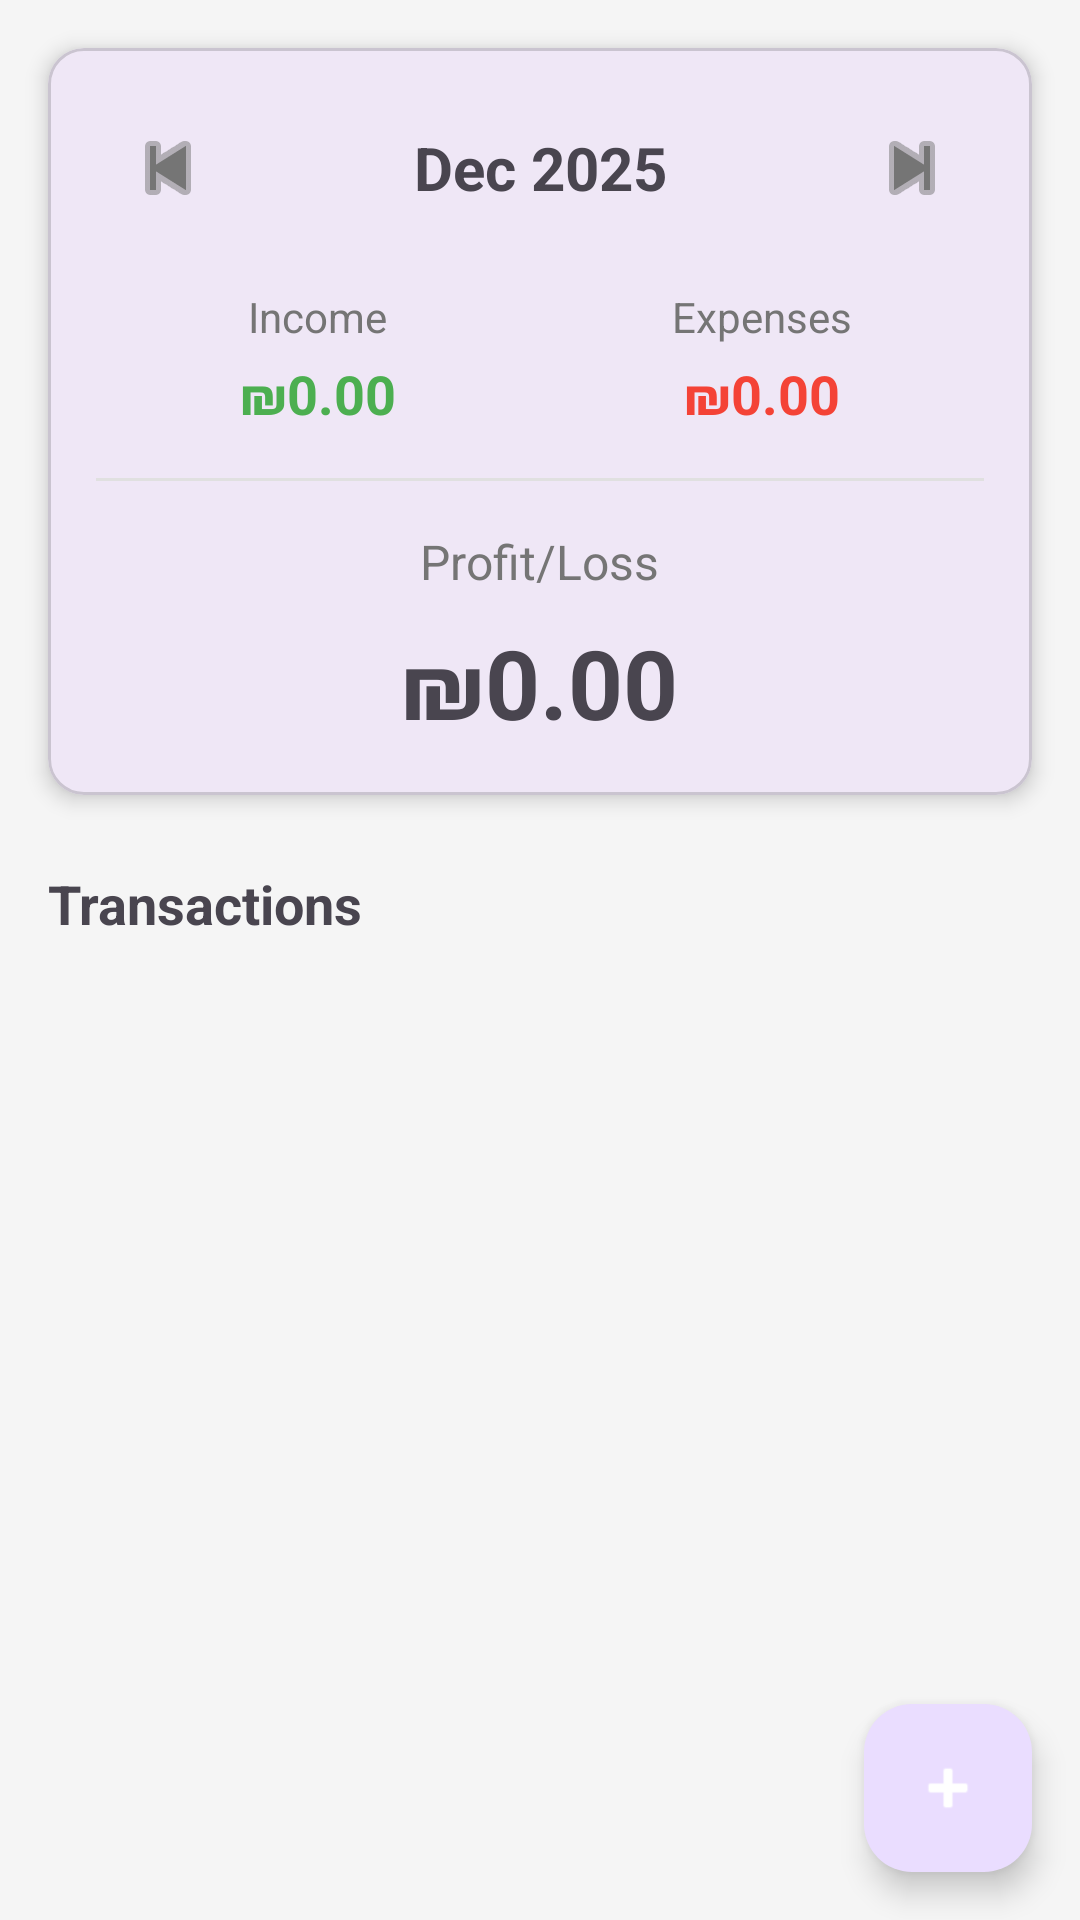

Named icons in this screenshot (1080x1920) and their centers, point (x, y):
Add Transaction: point (948, 1788)
Next Month: point (912, 168)
Previous Month: point (168, 168)
